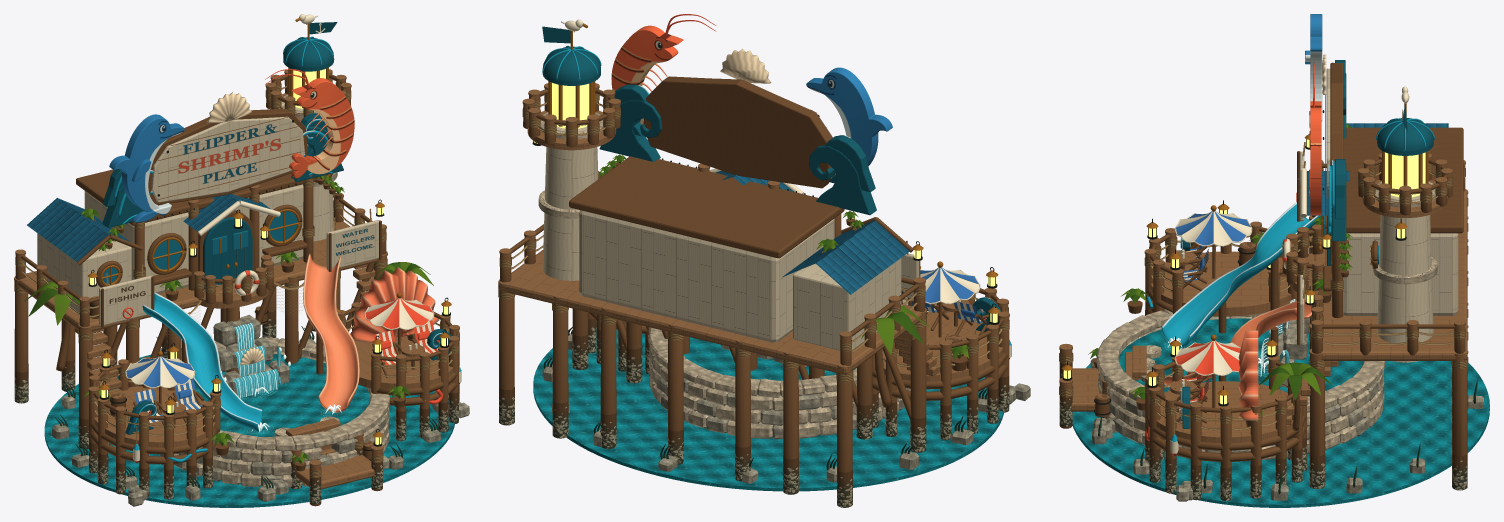
Rendered from flipper-shrimp.glb.
The picture shows the model from 3 angles, left to right: view 1: azimuth 30°, elevation 25°; view 2: azimuth 150°, elevation 25°; view 3: azimuth 270°, elevation 25°; orthographic projection. The views are drawn at different scales.
Parts seen in each view (by area): view 1: Flipper and Shrimp C+A; view 2: Flipper and Shrimp C+A; view 3: Flipper and Shrimp C+A.
Part boxes in pixels (x1,y1,x2,y2): Flipper and Shrimp C+A: (14,14,469,507); Flipper and Shrimp C+A: (498,14,1030,507); Flipper and Shrimp C+A: (1059,14,1489,507).
Bounding box in the file's own units: 0.86 × 0.7671 × 0.7811.
37 materials, 20 textured.
